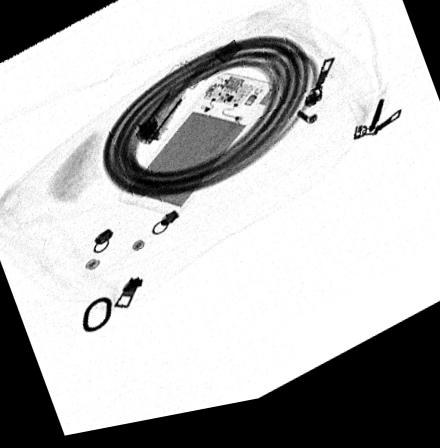Powerbank: (116, 79, 283, 228)
